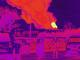Foc: (48, 19, 61, 32)
